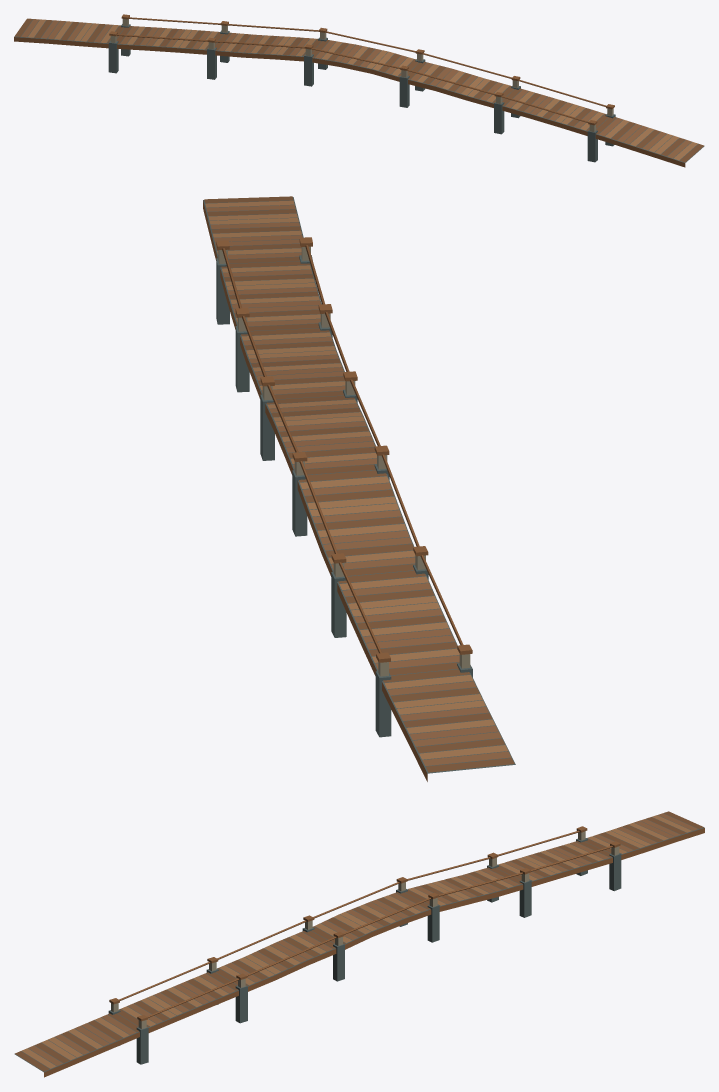
Rendered from 2_mineral_spring_1.glb.
3 views of the same model, one above another, from view 1: azimuth 30°, elevation 25°; view 2: azimuth 150°, elevation 25°; view 3: azimuth 270°, elevation 25° (orthographic). The views are drawn at different scales.
Parts seen in each view (by area): view 1: Detail_13_14, Detail_12_14, Detail_12_13, Deck_13_14-col, Deck_12_14-col, Deck_12_13-col; view 2: Detail_12_13, Detail_12_14, Detail_13_14, Deck_13_14-col, Deck_12_14-col, Deck_12_13-col; view 3: Detail_13_14, Detail_12_14, Detail_12_13, Deck_13_14-col, Deck_12_14-col, Deck_12_13-col.
Boxes of the visible parts, <box> form: Detail_13_14: <box>326,31,703,167</box>; Detail_12_14: <box>116,24,445,107</box>; Detail_12_13: <box>14,14,229,73</box>; Deck_13_14-col: <box>408,62,704,162</box>; Deck_12_14-col: <box>179,30,418,77</box>; Deck_12_13-col: <box>14,19,191,48</box>; Detail_12_13: <box>321,546,514,781</box>; Detail_12_14: <box>258,371,463,645</box>; Detail_13_14: <box>203,196,349,460</box>; Deck_13_14-col: <box>203,197,344,399</box>; Deck_12_14-col: <box>265,398,438,610</box>; Deck_12_13-col: <box>350,603,515,773</box>; Detail_13_14: <box>15,897,431,1077</box>; Detail_12_14: <box>283,830,579,956</box>; Detail_12_13: <box>496,811,704,917</box>; Deck_13_14-col: <box>14,932,335,1072</box>; Deck_12_14-col: <box>311,859,556,944</box>; Deck_12_13-col: <box>522,813,704,873</box>.
Size of the model in its own units: 26.94 by 3.87 by 32.56.
